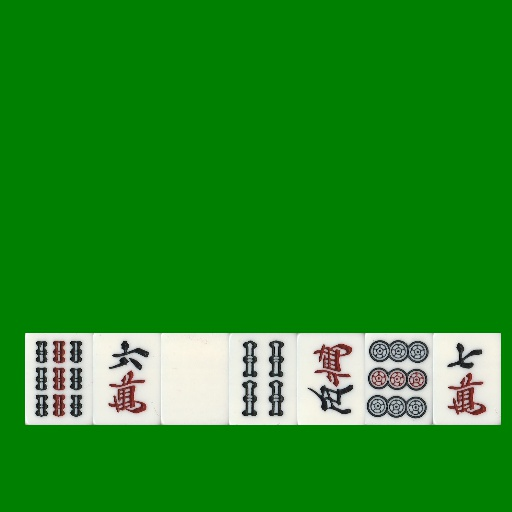4s: (229, 333, 297, 425)
5m: (297, 333, 365, 425)
6m: (93, 333, 161, 425)
7m: (433, 333, 501, 425)
9p: (365, 333, 433, 425)
9s: (25, 333, 93, 425)
white: (161, 333, 229, 425)
